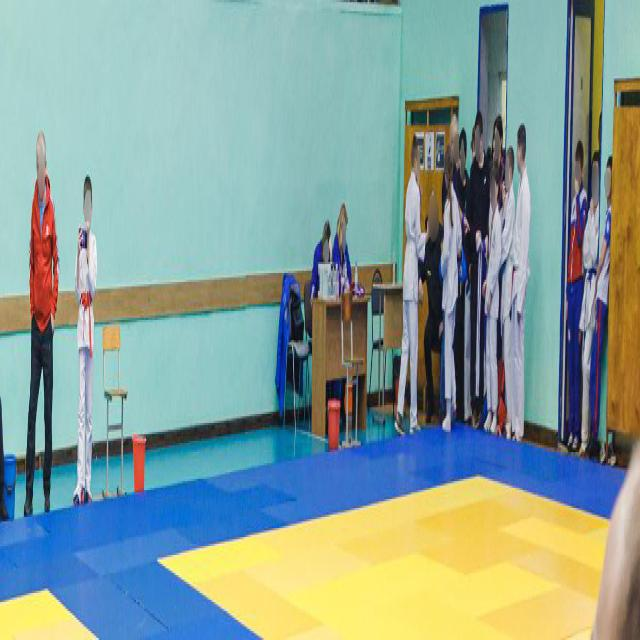Person: (26, 122, 61, 511), (69, 165, 102, 526), (585, 138, 619, 464), (398, 117, 422, 451), (579, 140, 601, 471), (512, 110, 532, 454), (564, 138, 582, 458), (422, 184, 446, 413), (498, 138, 514, 458), (483, 154, 500, 446), (469, 111, 487, 375), (456, 113, 467, 433), (302, 221, 332, 309), (333, 198, 356, 299), (493, 118, 507, 176)
